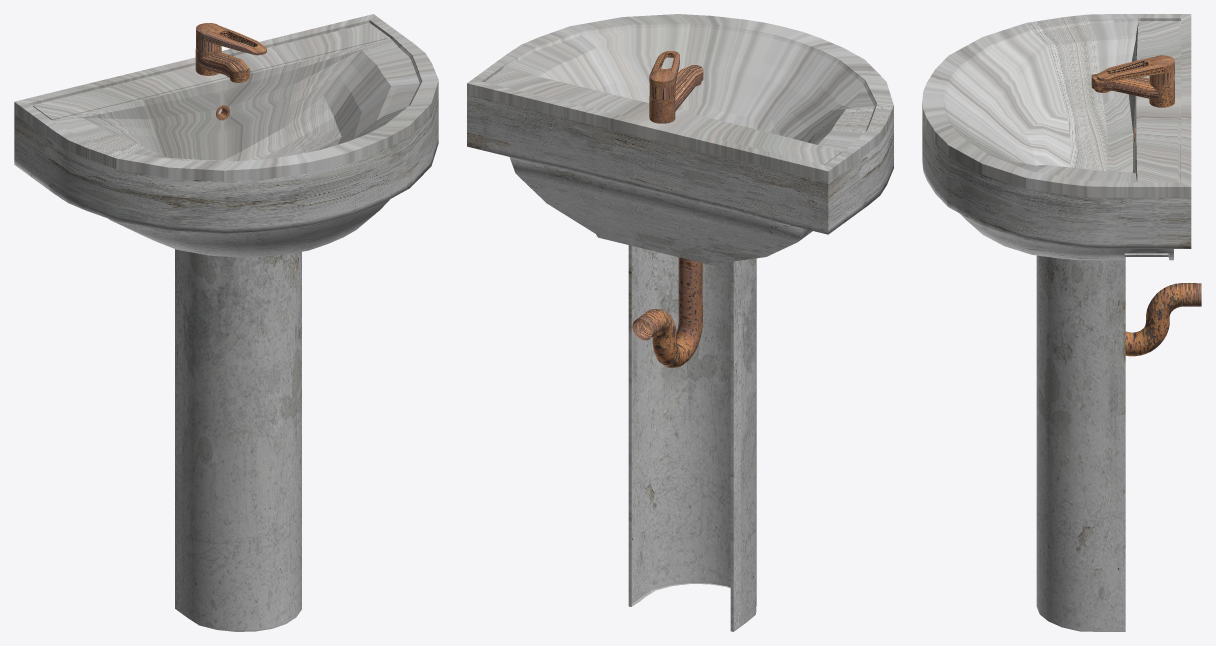
Rendered from Sink.FBX.
The picture shows the model from 3 angles, left to right: view 1: azimuth 30°, elevation 25°; view 2: azimuth 150°, elevation 25°; view 3: azimuth 270°, elevation 25°; orthographic projection.
Visible parts, largest first — view 1: Bowl, Stand, Faucet Handle, Faucet; view 2: Bowl, Stand, Drain Tube, Faucet, Faucet Handle; view 3: Bowl, Stand, Drain Tube, Faucet Handle, Faucet.
Boxes of the visible parts, x1=… form: Bowl: x1=14, y1=14, x2=438, y2=257; Stand: x1=175, y1=249, x2=301, y2=631; Faucet Handle: x1=196, y1=23, x2=266, y2=55; Faucet: x1=195, y1=48, x2=249, y2=82; Bowl: x1=467, y1=14, x2=893, y2=265; Stand: x1=628, y1=245, x2=756, y2=631; Drain Tube: x1=632, y1=257, x2=702, y2=367; Faucet: x1=649, y1=65, x2=703, y2=123; Faucet Handle: x1=649, y1=51, x2=679, y2=99; Bowl: x1=922, y1=14, x2=1191, y2=260; Stand: x1=1036, y1=255, x2=1125, y2=631; Drain Tube: x1=1125, y1=283, x2=1201, y2=356; Faucet Handle: x1=1096, y1=55, x2=1174, y2=84; Faucet: x1=1091, y1=73, x2=1174, y2=107.
Bounding box in the file's own units: 68.92 × 102 × 47.02.
Materials: 2 (2 with a texture image).
